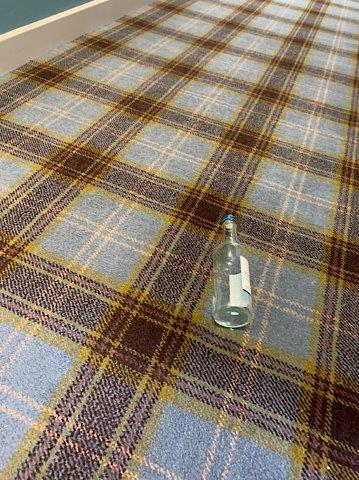botolkaca: (213, 215, 252, 328)
